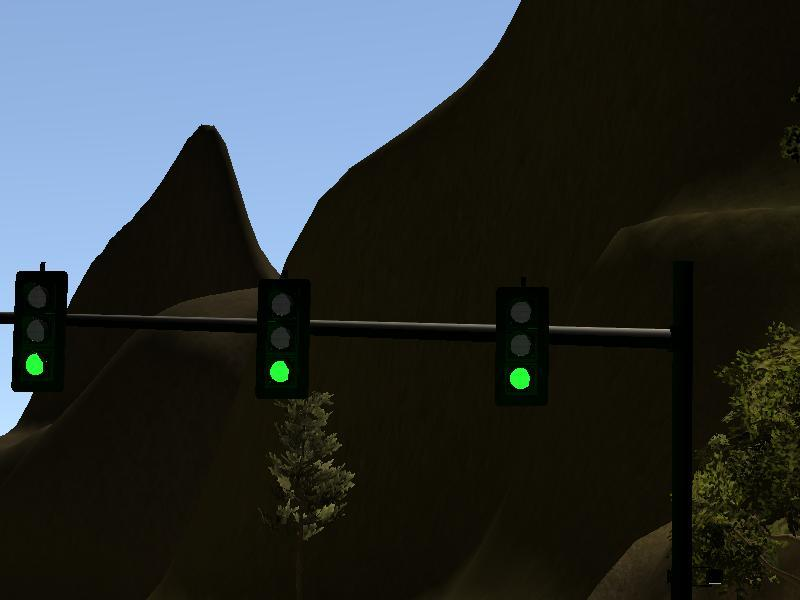Green: (15, 271, 64, 386), (258, 285, 303, 392), (502, 288, 543, 395)
